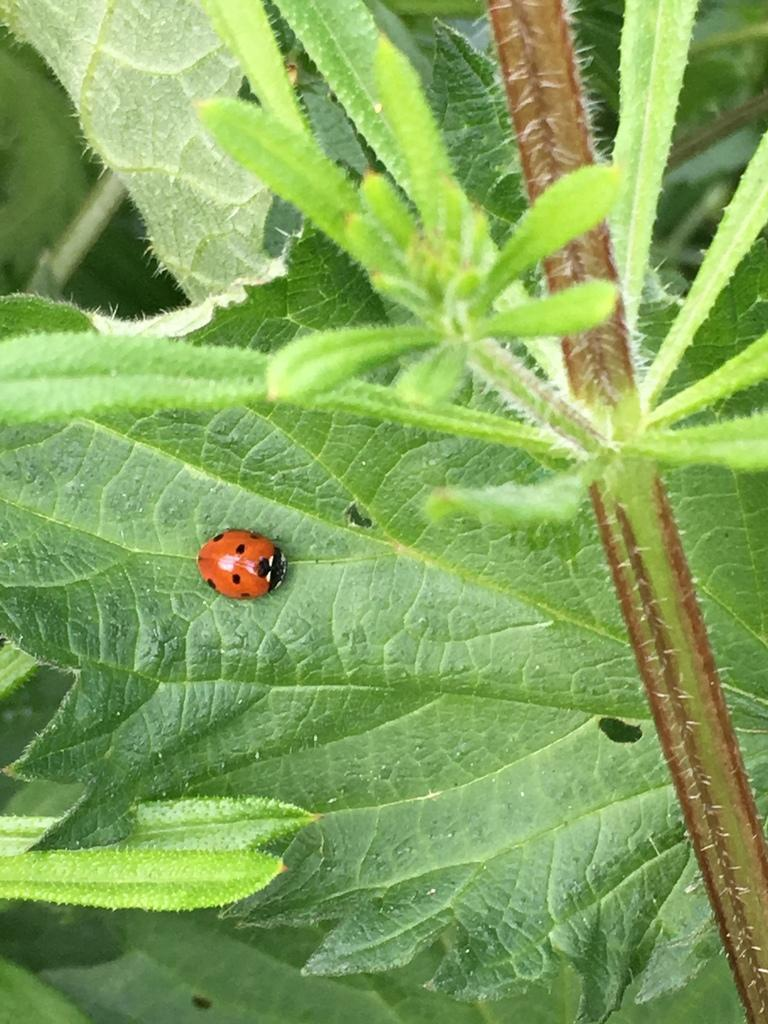ladybug: (198, 529, 289, 601)
